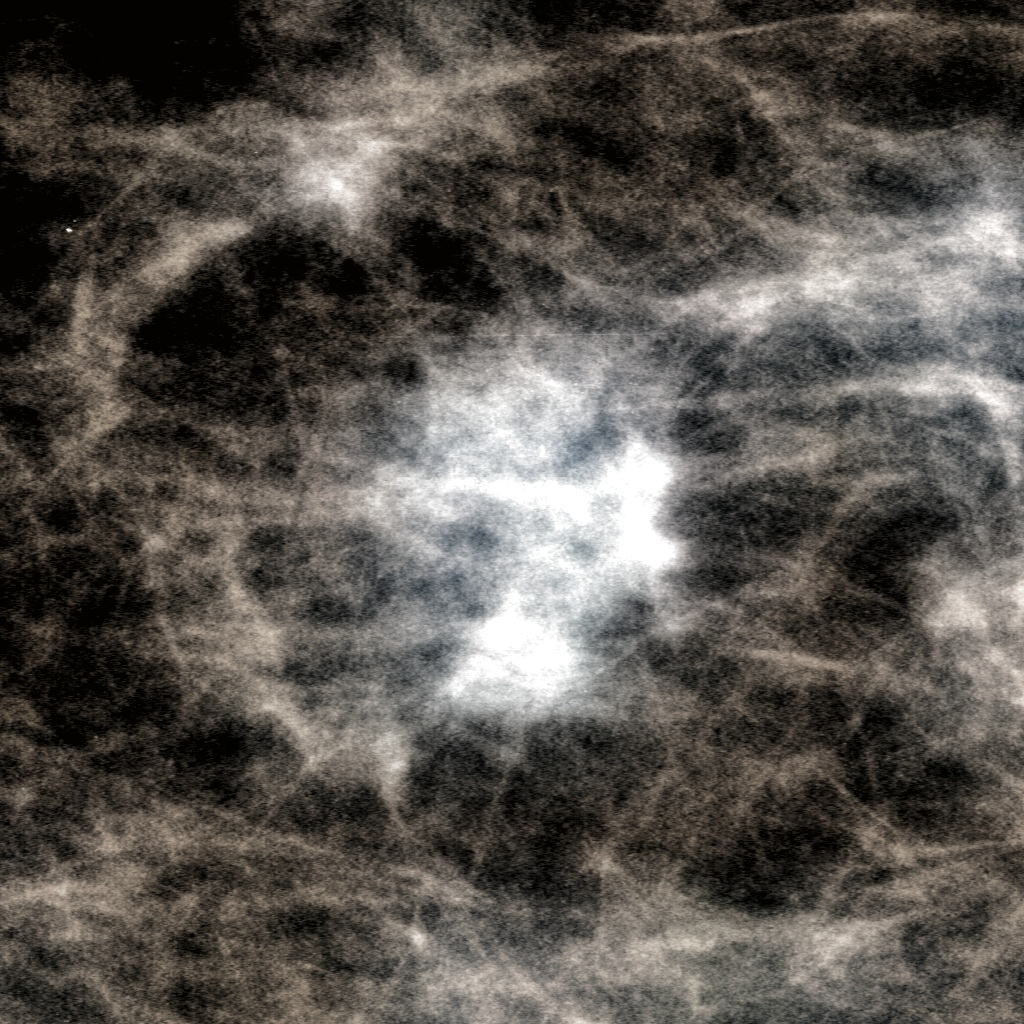tumor: (328, 301, 696, 723)
